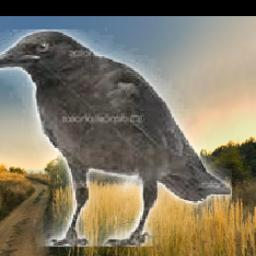Crow: (0, 30, 233, 247)
